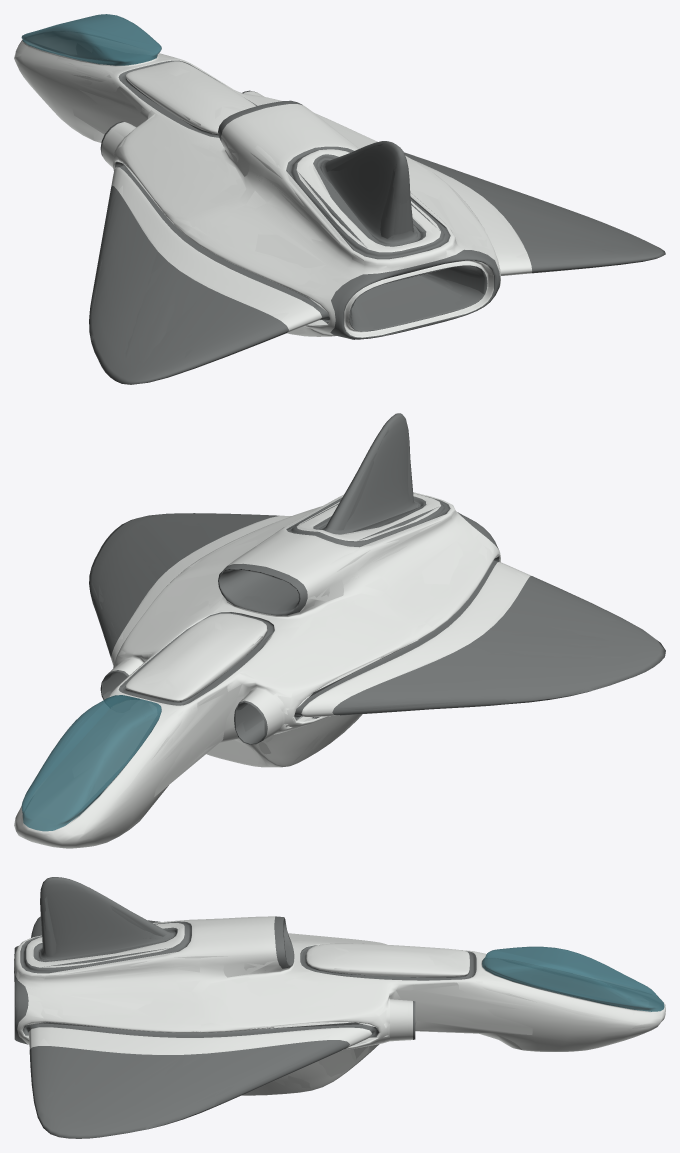
File: prototype_shuttle_exterior.glb
3 renders of one model, top to bottom at view 1: azimuth 30°, elevation 25°; view 2: azimuth 150°, elevation 25°; view 3: azimuth 270°, elevation 25°, orthographic. The views are drawn at different scales.
Visible parts, largest first — view 1: ExactShuttleAReferenceBlockoutExterior; view 2: ExactShuttleAReferenceBlockoutExterior; view 3: ExactShuttleAReferenceBlockoutExterior.
Part boxes in pixels (x1,y1,x2,y2): ExactShuttleAReferenceBlockoutExterior: (14, 14, 665, 384); ExactShuttleAReferenceBlockoutExterior: (14, 413, 665, 848); ExactShuttleAReferenceBlockoutExterior: (14, 877, 665, 1138).
Size of the model in its own units: 27.54 by 11.36 by 33.68.
